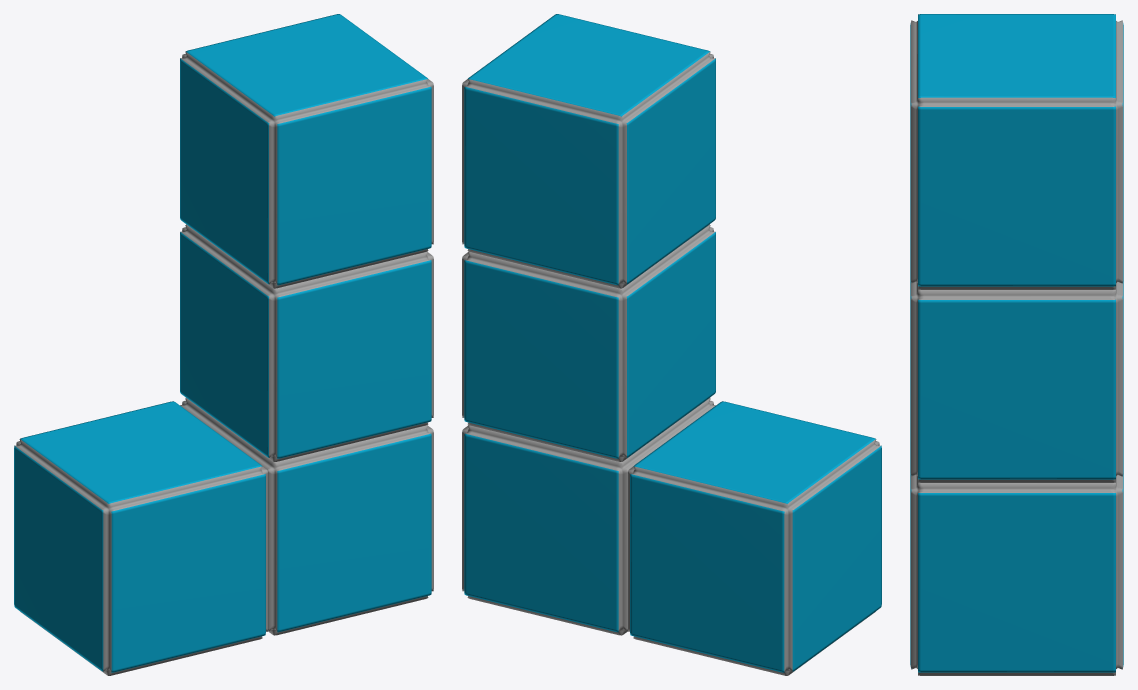
The model's file is blueTetrinimous.fbx.
3 renders of one model, left to right at view 1: azimuth 30°, elevation 25°; view 2: azimuth 150°, elevation 25°; view 3: azimuth 270°, elevation 25°, orthographic. The views are drawn at different scales.
Parts seen in each view (by area): view 1: blueTetrinimous; view 2: blueTetrinimous; view 3: blueTetrinimous.
Boxes of the visible parts, x1=… form: blueTetrinimous: x1=14, y1=14, x2=433, y2=675; blueTetrinimous: x1=462, y1=14, x2=881, y2=675; blueTetrinimous: x1=910, y1=14, x2=1123, y2=675.
Bounding box in the file's own units: 2.02 × 3.03 × 1.01.
